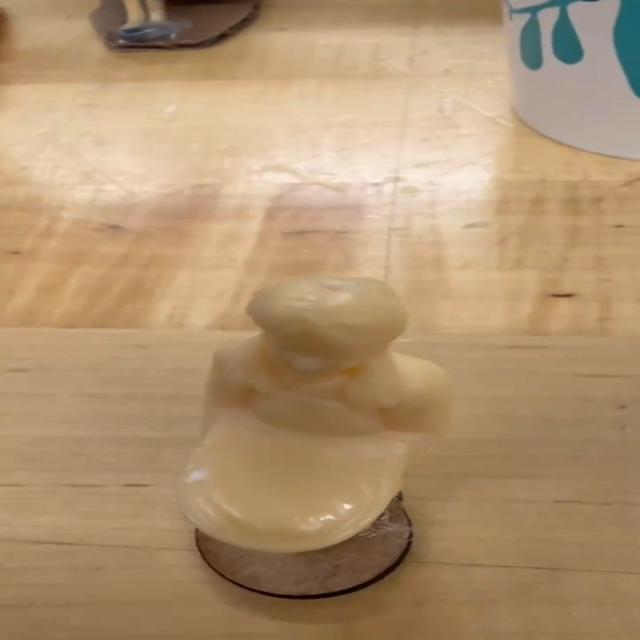Unauthorized: (126, 283, 486, 589)
